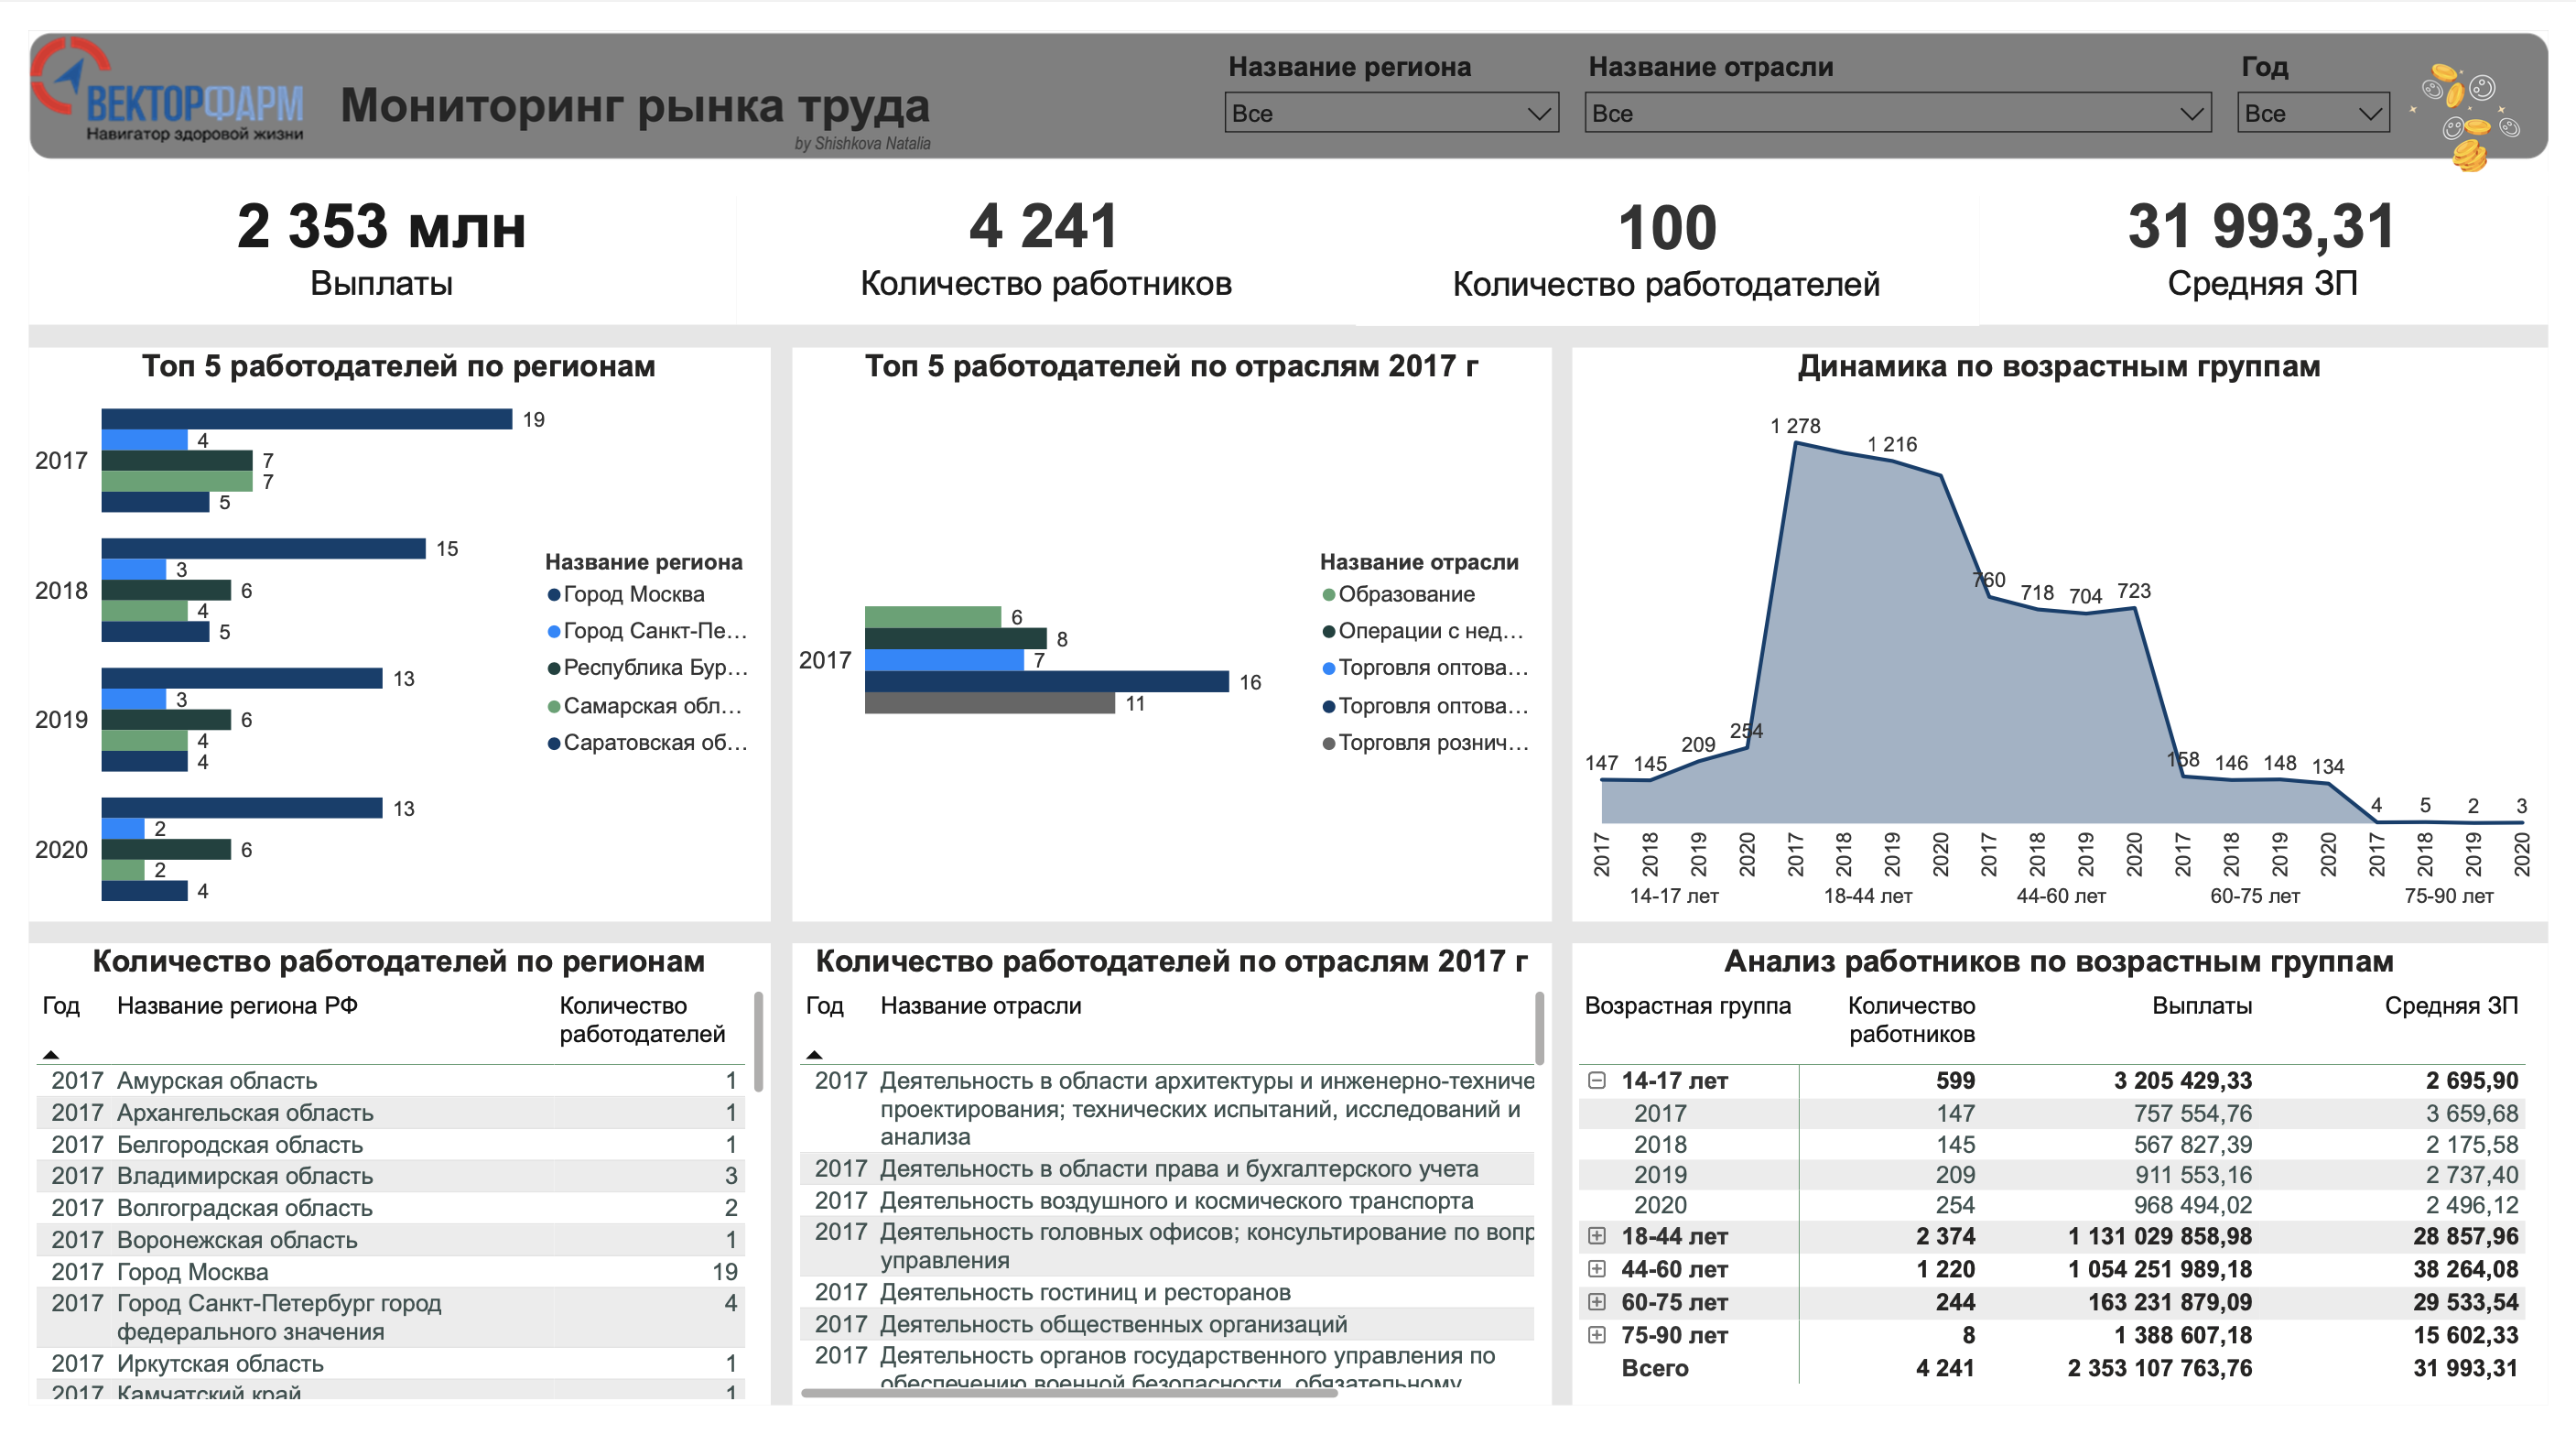

This screenshot's page, from the dashboard's own definition file:
{"tool":"powerbi","page":{"name":"Дашборд_1","canvas":[1980,1080],"ordinal":0},"visuals":[{"type":"image","box":[0,0,1980,130],"z":0},{"type":"cardVisual","fields":{"Data":["выплаты работодателей работникам.Выплаты"]},"box":[0,111.4,555.7,120],"z":1000},{"type":"cardVisual","fields":{"Data":["выплаты работодателей работникам.Количество работников"]},"box":[555.7,111.4,488.6,120],"z":2000},{"type":"cardVisual","fields":{"Data":["выплаты работодателей работникам.Количество работодателей"]},"box":[1043.3,111.7,490,120],"z":3000},{"type":"cardVisual","fields":{"Data":["выплаты работодателей работникам.Средняя ЗП"]},"box":[1532.9,111.4,447.1,120],"z":4000},{"type":"slicer","fields":{"Values":["календарь.Год"]},"box":[1725.7,11.4,140,81.4],"z":5000},{"type":"slicer","fields":{"Values":["справочник отраслей.Название отрасли"]},"box":[1212.9,11.4,512.9,81.4],"z":6000},{"type":"slicer","fields":{"Values":["справочник ОКТМО (регионов РФ).Название региона РФ"]},"box":[930,11.4,282.9,81.4],"z":7000},{"type":"pivotTable","title":"Анализ работников по возрастным группам","fields":{"Rows":["работники.Возрастная группа","календарь.Год"],"Values":["выплаты работодателей работникам.Количество работников","выплаты работодателей работникам.Выплаты","выплаты работодателей работникам.Средняя ЗП"]},"box":[1212.9,717.1,767.1,362.9],"z":8000},{"type":"stackedAreaChart","title":"Динамика по возрастным группам","fields":{"Category":["работники.Возрастная группа","календарь.Год"],"Y":["выплаты работодателей работникам.Кол-во работников"]},"box":[1212.9,248.6,767.1,451.4],"z":9000},{"type":"clusteredBarChart","title":"Топ 5 работодателей по регионам","fields":{"Category":["календарь.Год"],"Y":["выплаты работодателей работникам.Кол-во работодателей"],"Series":["справочник ОКТМО (регионов РФ).Название региона РФ"]},"box":[0,248.6,582.9,451.4],"z":10000},{"type":"tableEx","title":"Количество работодателей по регионам","fields":{"Values":["календарь.Год","справочник ОКТМО (регионов РФ).Название региона РФ","выплаты работодателей работникам.Количество работодателей"]},"box":[0,717.1,582.9,362.9],"z":11000},{"type":"clusteredBarChart","title":"Топ 5 работодателей по отраслям  2017 г","fields":{"Category":["календарь.Год"],"Y":["выплаты работодателей работникам.Кол-во работодателей"],"Series":["справочник отраслей.Название отрасли"]},"box":[600,248.6,597.1,451.4],"z":12000},{"type":"tableEx","title":"Количество работодателей по отраслям  2017 г","fields":{"Values":["календарь.Год","справочник отраслей.Название отрасли","выплаты работодателей работникам.Количество работодателей"]},"box":[600,717.1,597.1,362.9],"z":13000}]}

Visuals, with their boxes in screenshot pixels (x1, y1, x2, y2), scaled from the page's 1980x1080 canvas onto the 2576x1434 screenshot:
image: 0 0 2575 172
cardVisual - выплаты работодателей работникам.Выплаты: 0 148 723 308
cardVisual - выплаты работодателей работникам.Количество работников: 723 148 1358 308
cardVisual - выплаты работодателей работникам.Количество работодателей: 1358 148 1995 308
cardVisual - выплаты работодателей работникам.Средняя ЗП: 1995 148 2575 308
slicer - календарь.Год: 2246 16 2428 124
slicer - справочник отраслей.Название отрасли: 1578 16 2246 124
slicer - справочник ОКТМО (регионов РФ).Название региона РФ: 1210 16 1578 124
"Анализ работников по возрастным группам" pivotTable: 1578 952 2575 1433
"Динамика по возрастным группам" stackedAreaChart: 1578 330 2575 929
"Топ 5 работодателей по регионам" clusteredBarChart: 0 330 758 929
"Количество работодателей по регионам" tableEx: 0 952 758 1433
"Топ 5 работодателей по отраслям  2017 г" clusteredBarChart: 781 330 1557 929
"Количество работодателей по отраслям  2017 г" tableEx: 781 952 1557 1433
